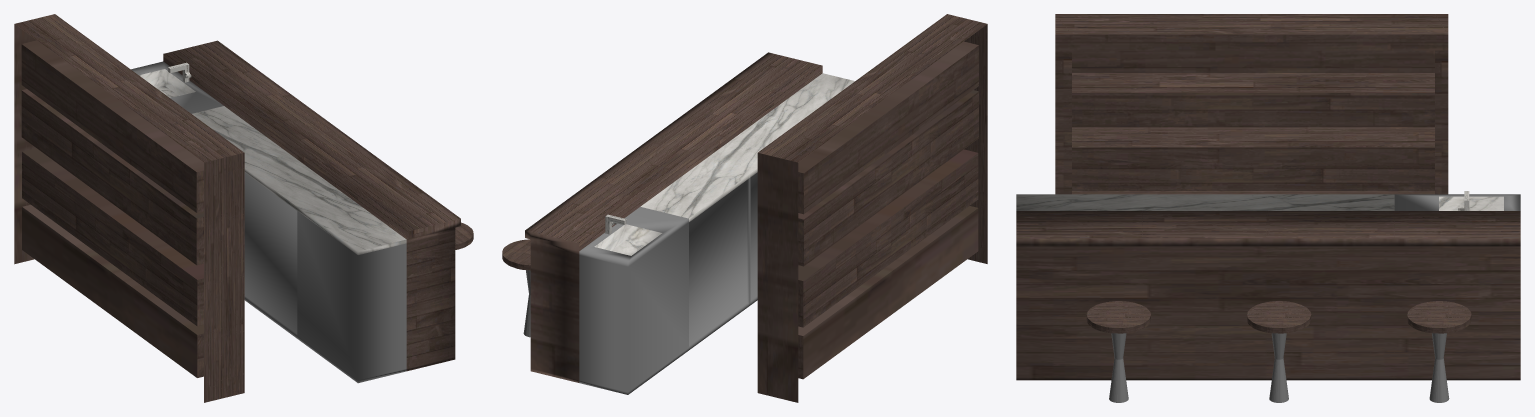
File: Props_1.fbx
The picture shows the model from 3 angles, left to right: view 1: azimuth 30°, elevation 25°; view 2: azimuth 150°, elevation 25°; view 3: azimuth 270°, elevation 25°; orthographic projection. The views are drawn at different scales.
Parts seen in each view (by area): view 1: Props_1; view 2: Props_1; view 3: Props_1.
Part boxes in pixels (bbox=[...]): Props_1: bbox=[14, 14, 473, 402]; Props_1: bbox=[502, 14, 987, 402]; Props_1: bbox=[1016, 14, 1520, 402].
Size of the model in its own units: 3.95 by 3.06 by 5.62.
